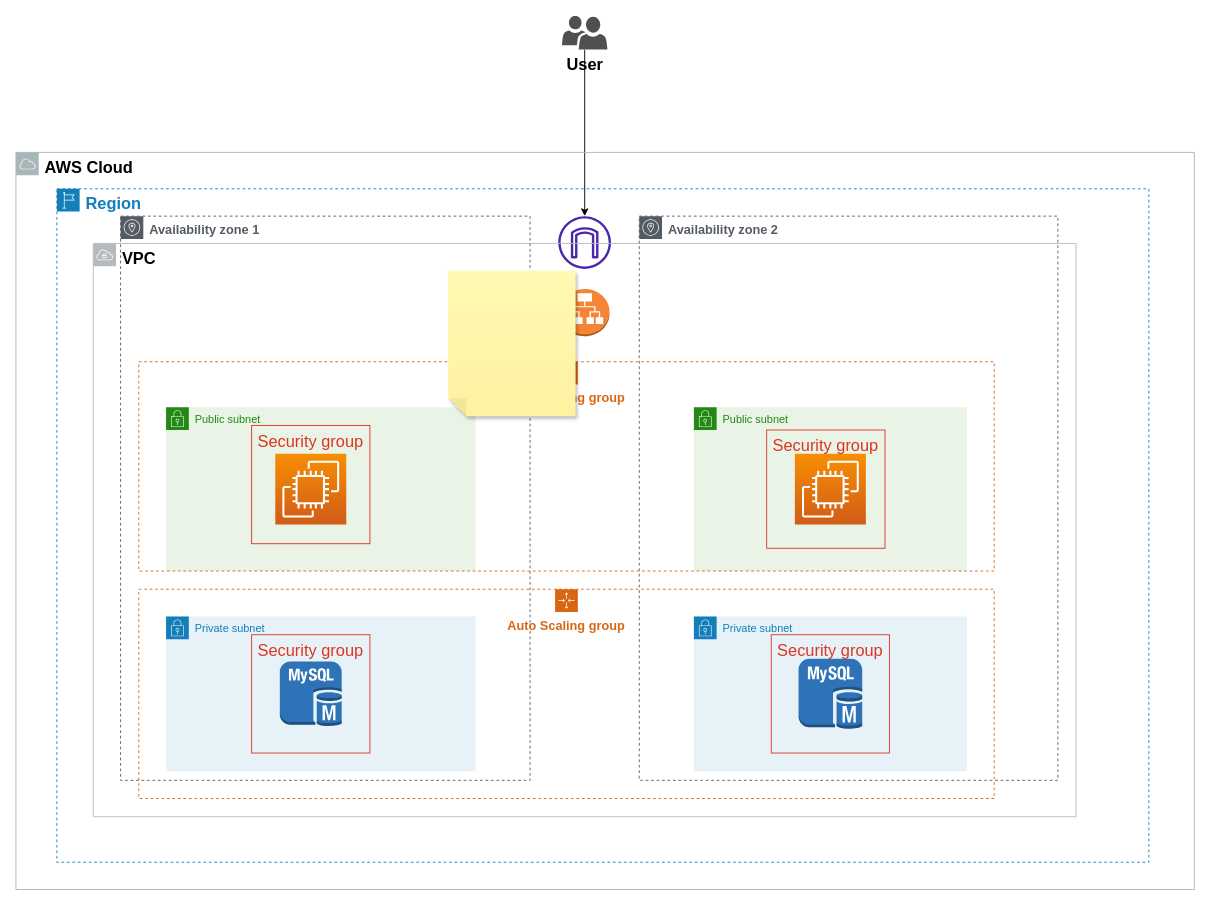
Some shapes in this 1210 by 905 pixel diagram are drawn without their labels. Here are the shapes that lost their labels. From the top down, the centre of each, then its label:
At [584,242]: "Internet gateway".
At [584,312]: "Application Load Balancer".
